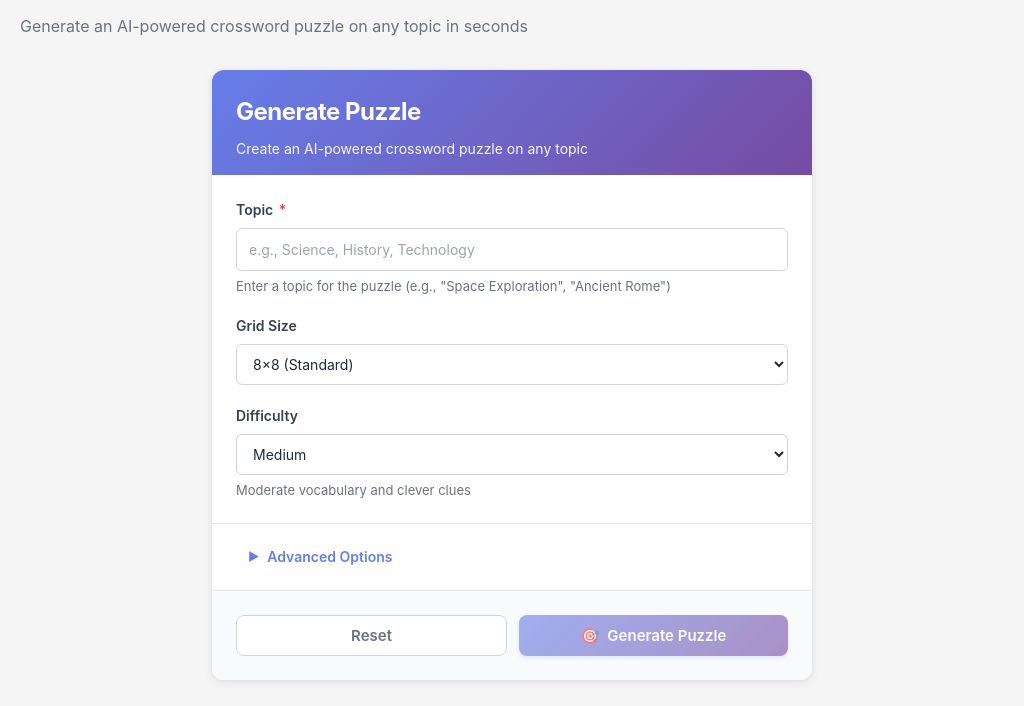
it: PuzzleGenerator Component › Error Handling › should handle API errors
The width and height of the screenshot is (1024, 706).
Type "Science" into the field with test id "topic-input" at [512, 250], box [236,228,788,271]
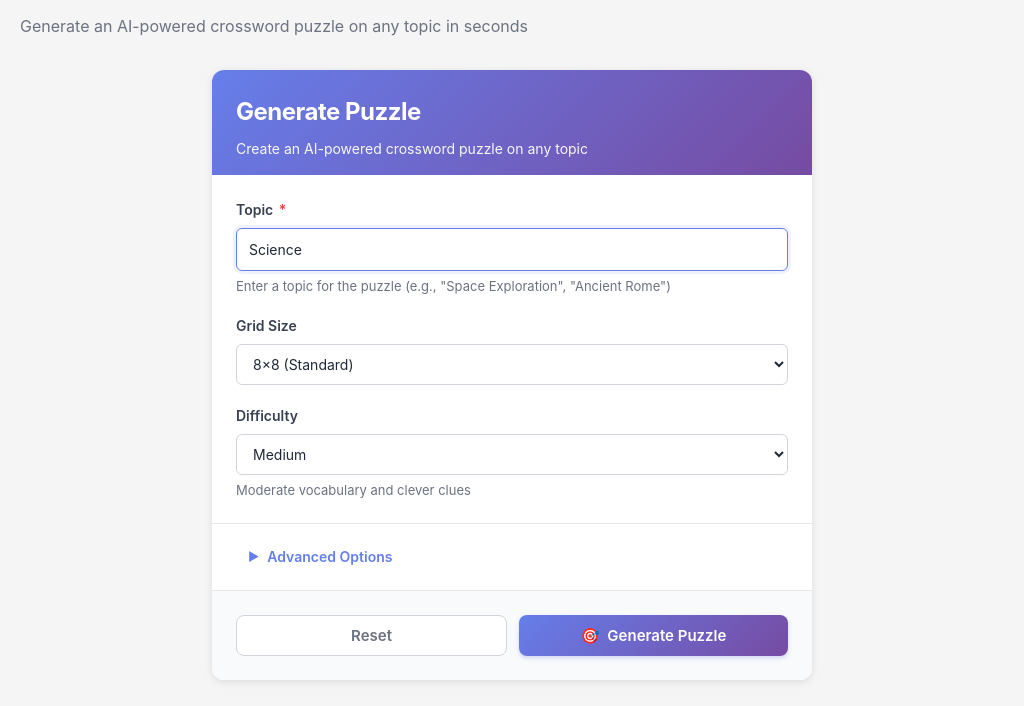
Click the button with test id "submit-button" at [654, 636], box [519,615,788,656]
(page scrolled)
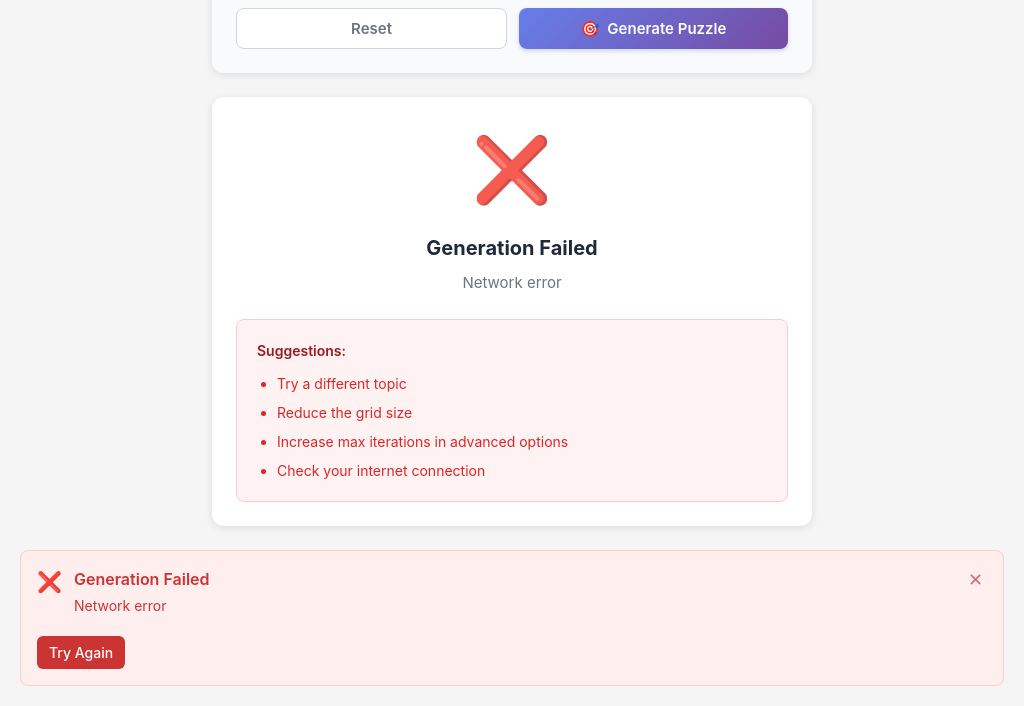
Result: the message "❌ Generation Failed Network error ✕ Try Again" is shown at [20,550,1004,686]
